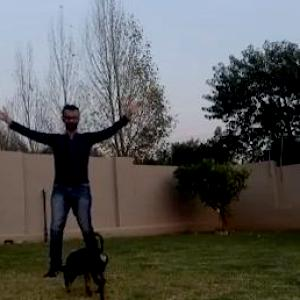takeoff: (1, 85, 142, 292)
